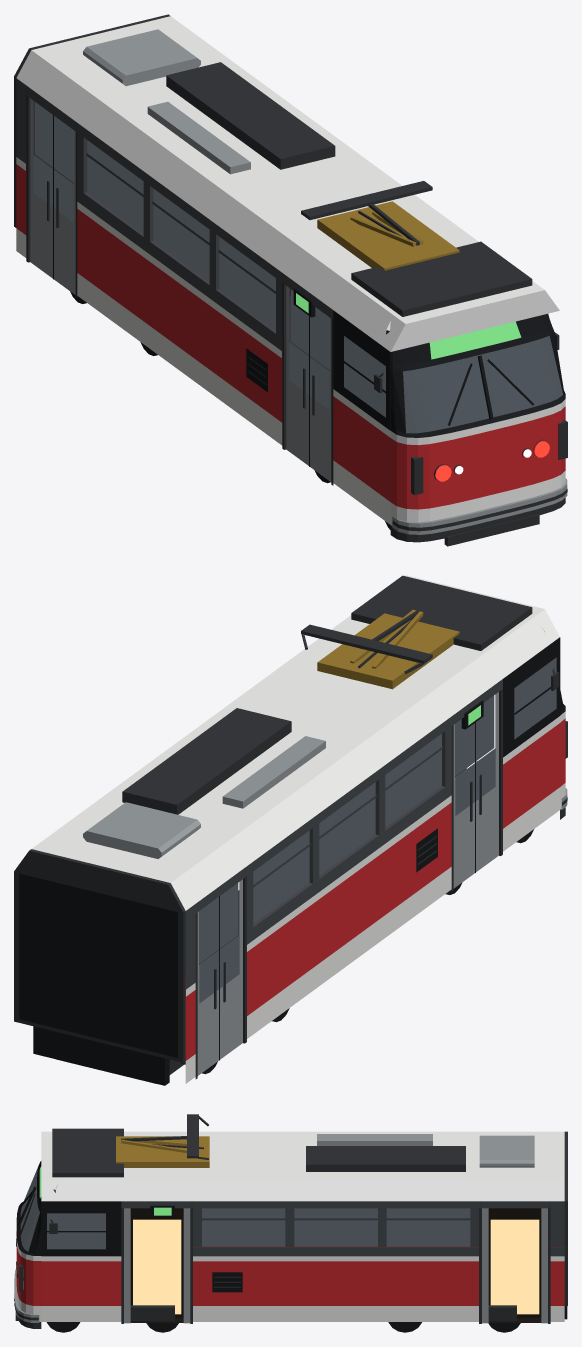
File: kt8d5-c-open.glb
The picture shows the model from 3 angles, top to bottom: view 1: azimuth 30°, elevation 25°; view 2: azimuth 150°, elevation 25°; view 3: azimuth 270°, elevation 25°; orthographic projection. The views are drawn at different scales.
Parts seen in each view (by area): view 1: kt8d5-c-open; view 2: kt8d5-c-open; view 3: kt8d5-c-open.
Boxes of the visible parts, x1,y1,x2,y2 form: kt8d5-c-open: [14, 14, 567, 546]; kt8d5-c-open: [14, 575, 567, 1085]; kt8d5-c-open: [14, 1114, 567, 1332].
Bounding box in the file's own units: 2.62 × 3.5 × 10.05.
